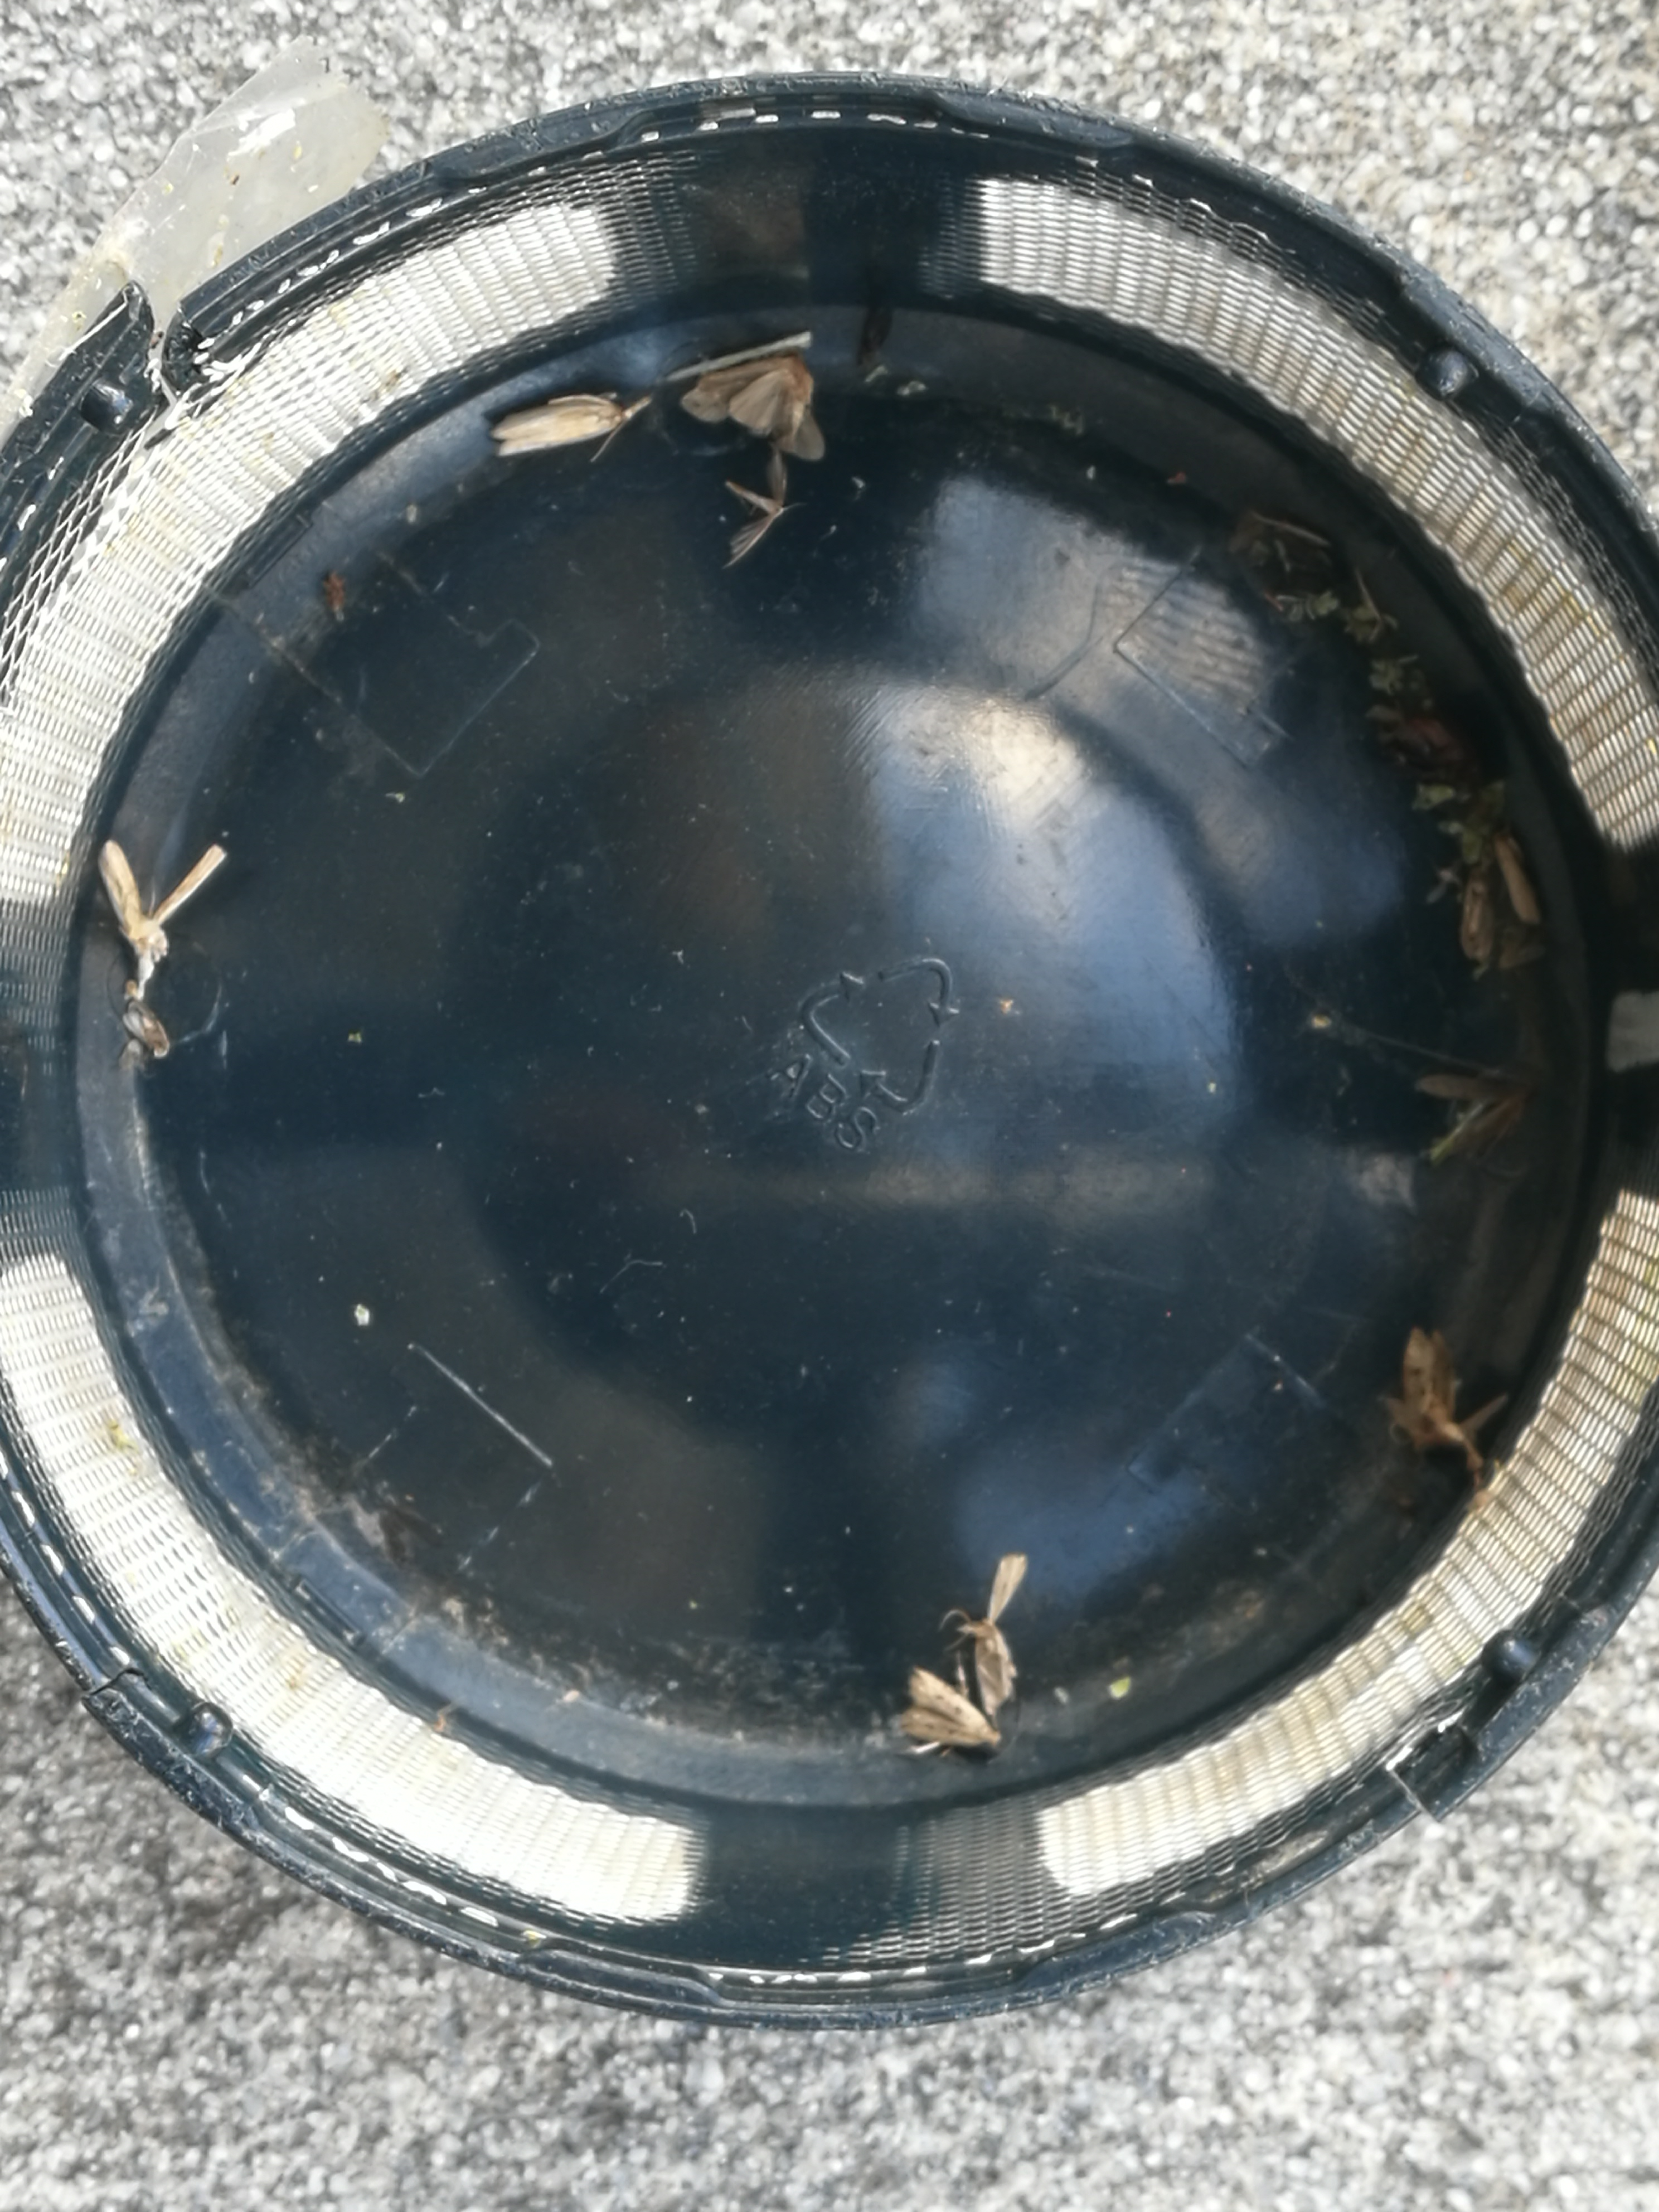beetle: (1394, 711, 1481, 780)
mosquito: (99, 841, 167, 979), (490, 395, 624, 456), (1403, 1327, 1452, 1451), (1493, 831, 1541, 925), (1459, 869, 1492, 961), (1415, 1073, 1528, 1099), (120, 1001, 169, 1059)
moth: (681, 357, 826, 460), (957, 1554, 1028, 1712), (903, 1669, 1002, 1747)
